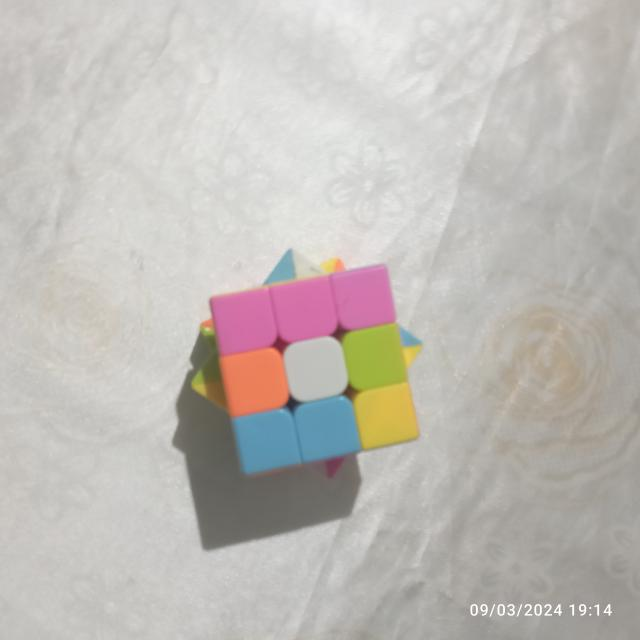Rub: (185, 241, 427, 488)
